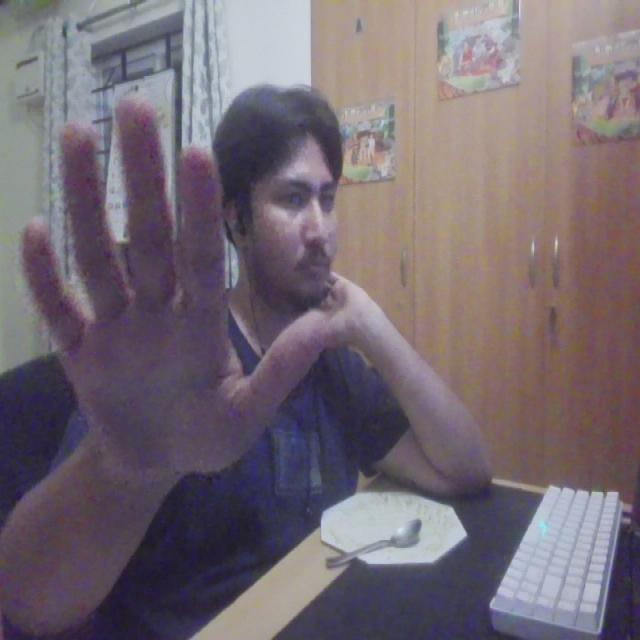hello: (13, 78, 333, 486)
